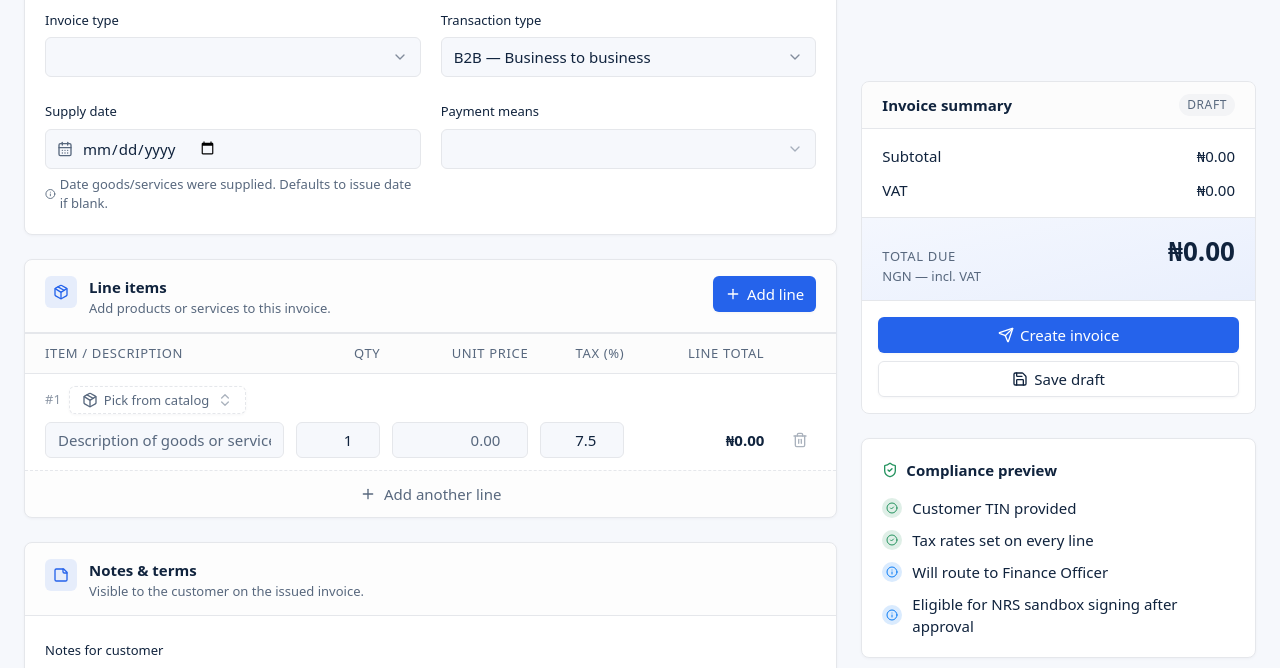
Test case: CreateInvoice catalog product description adoption › defaults line description to product.description when present
(page scrolled)
Click "Pick from catalog"
Click the dropdown "Pick from catalog" at (158, 400), box top-left (69, 386), bottom-right (246, 414)
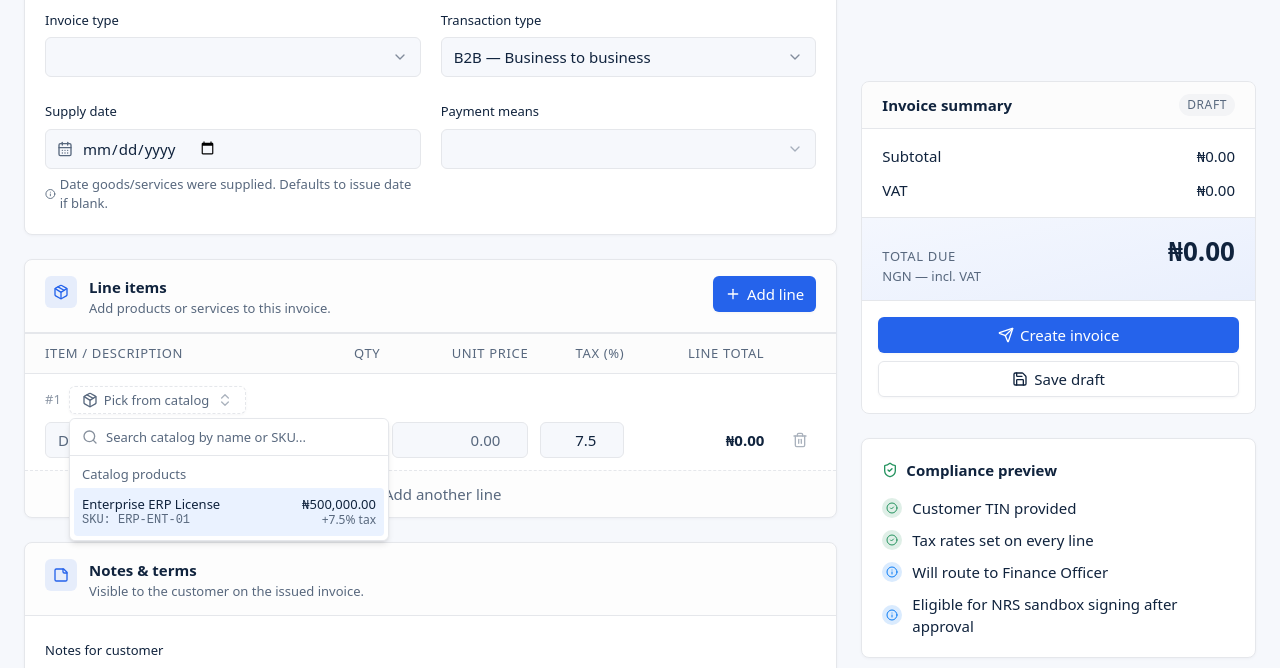
Select the product
Click the text "Enterprise ERP License" at (151, 504), box top-left (82, 496), bottom-right (220, 512)
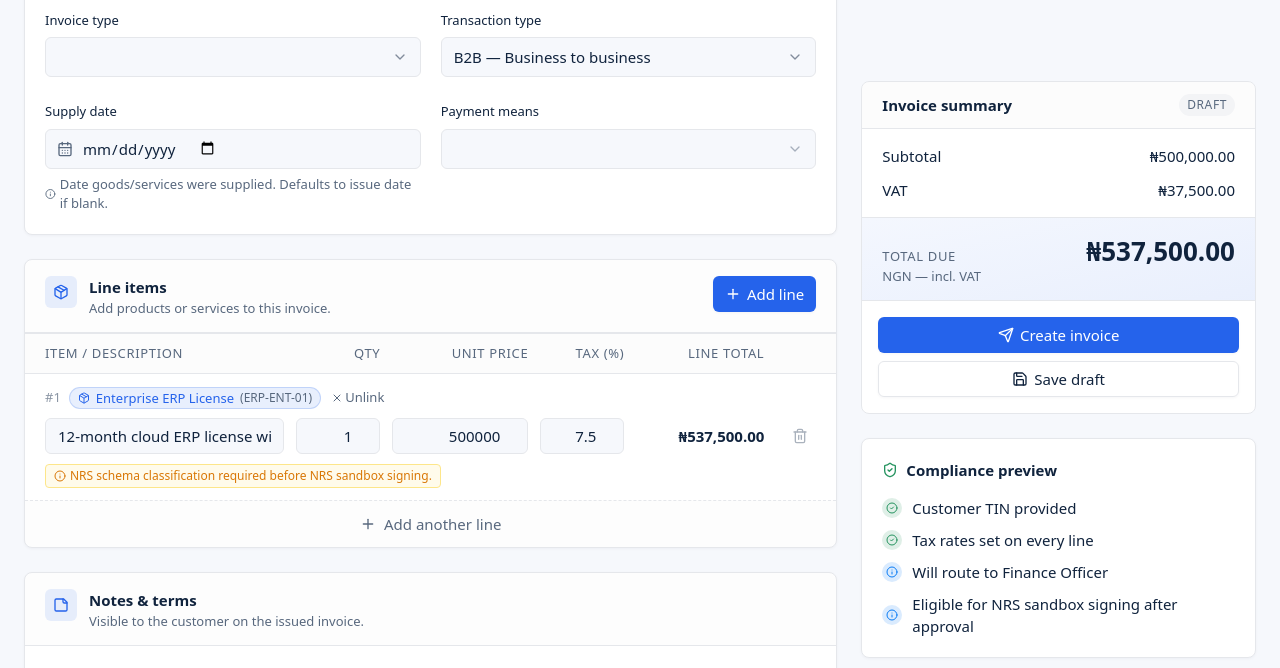
Now the field showing "12-month cloud ERP license with premium SLA support" is shown, box top-left (45, 418), bottom-right (284, 454)
